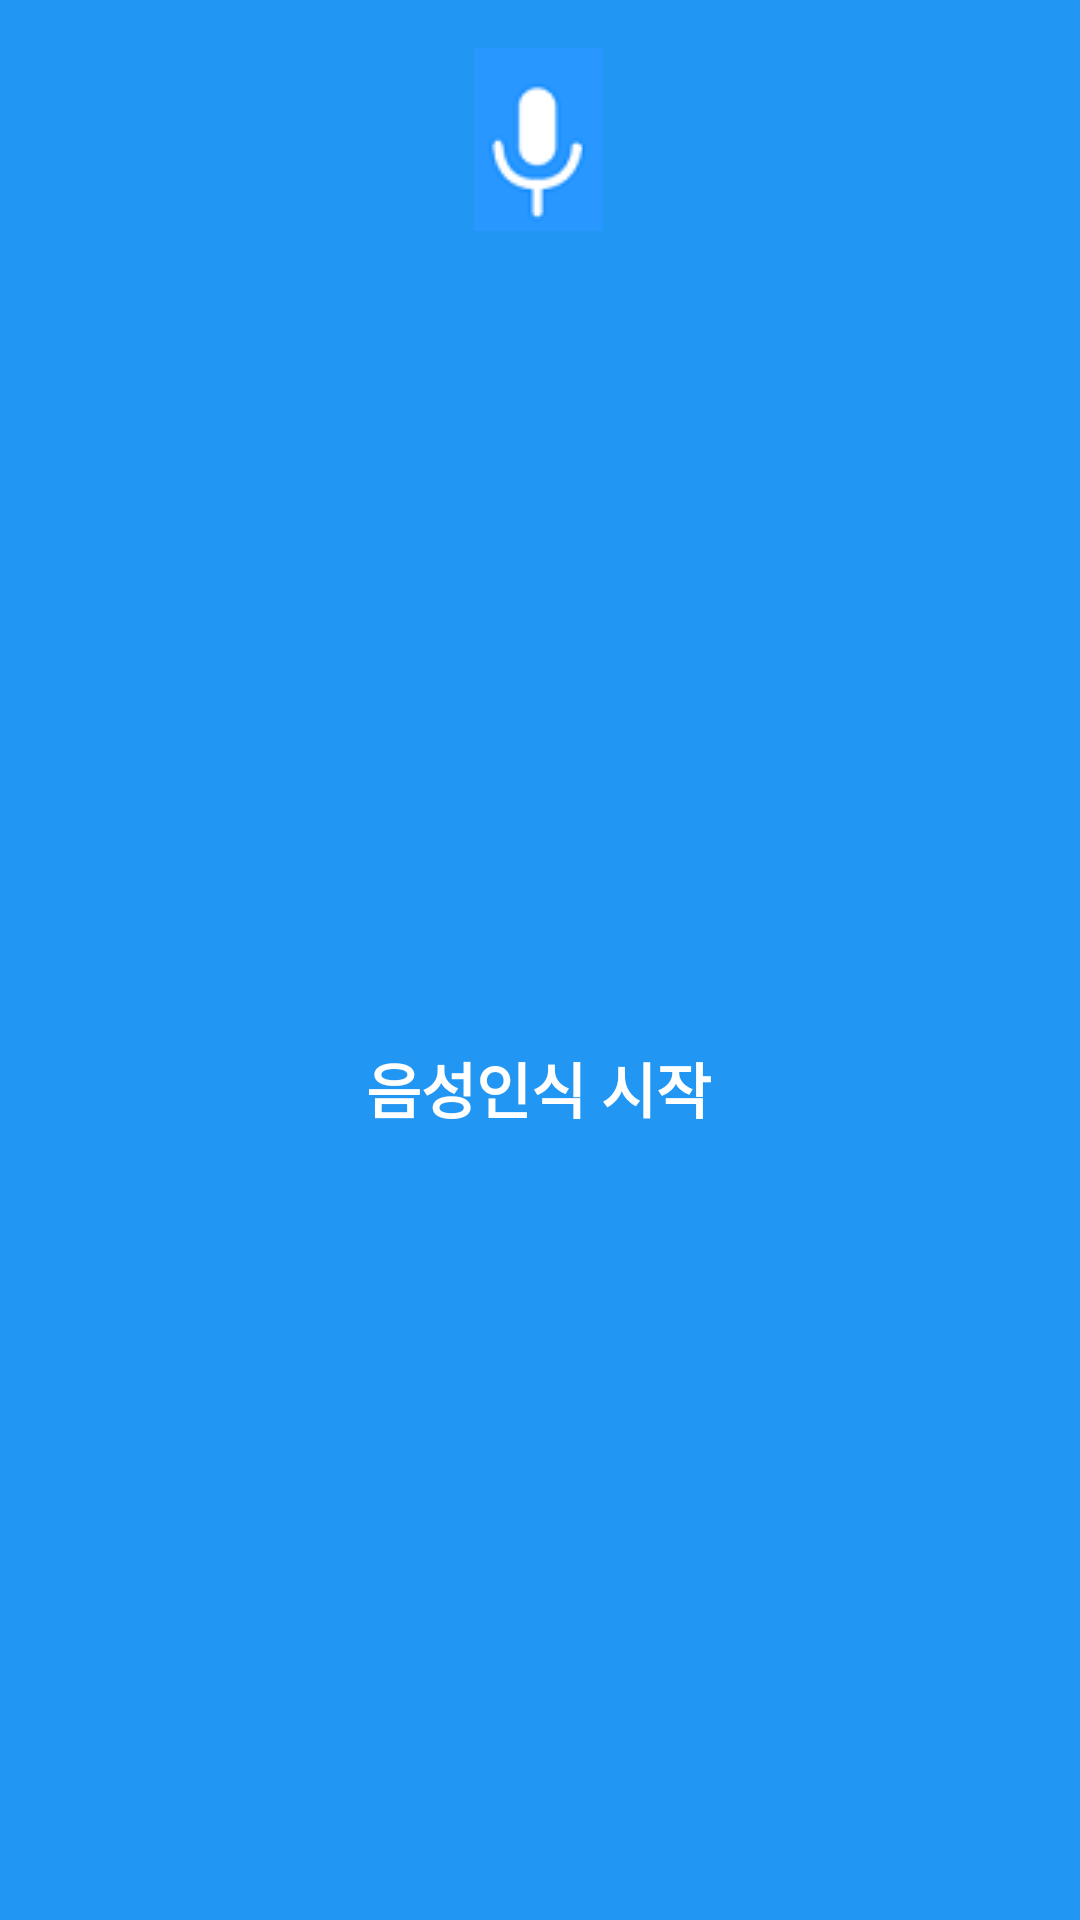

Where to tap for icons on this 1080px×1920px app screen, as (x,y):
micc: (538,139)
